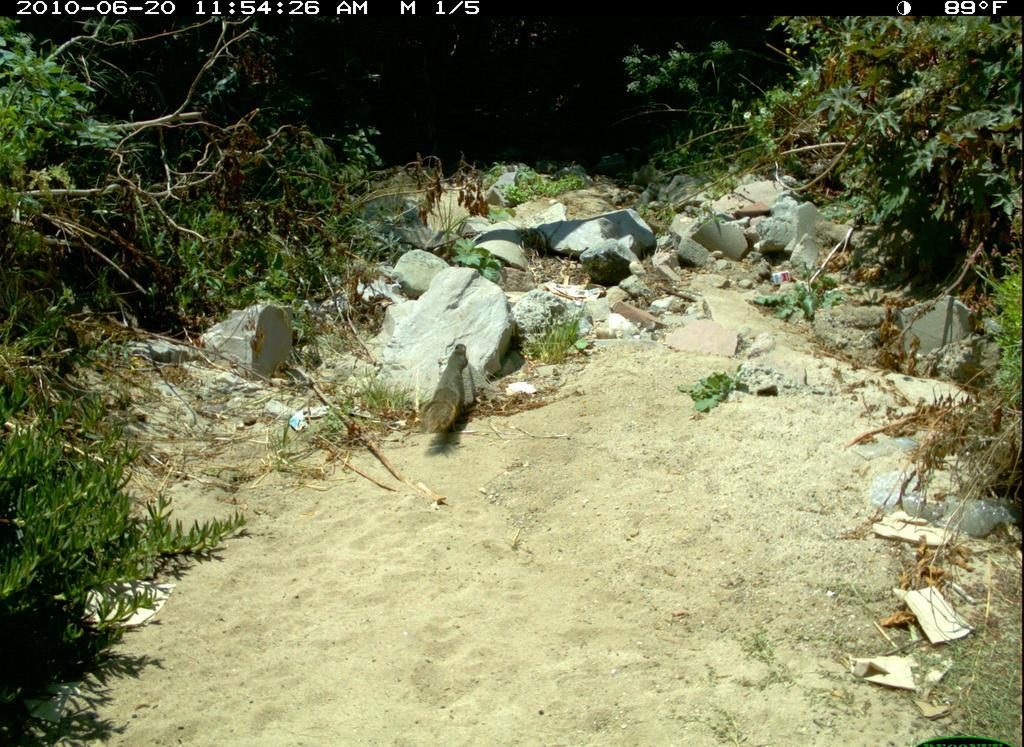squirrel: (412, 332, 484, 445)
